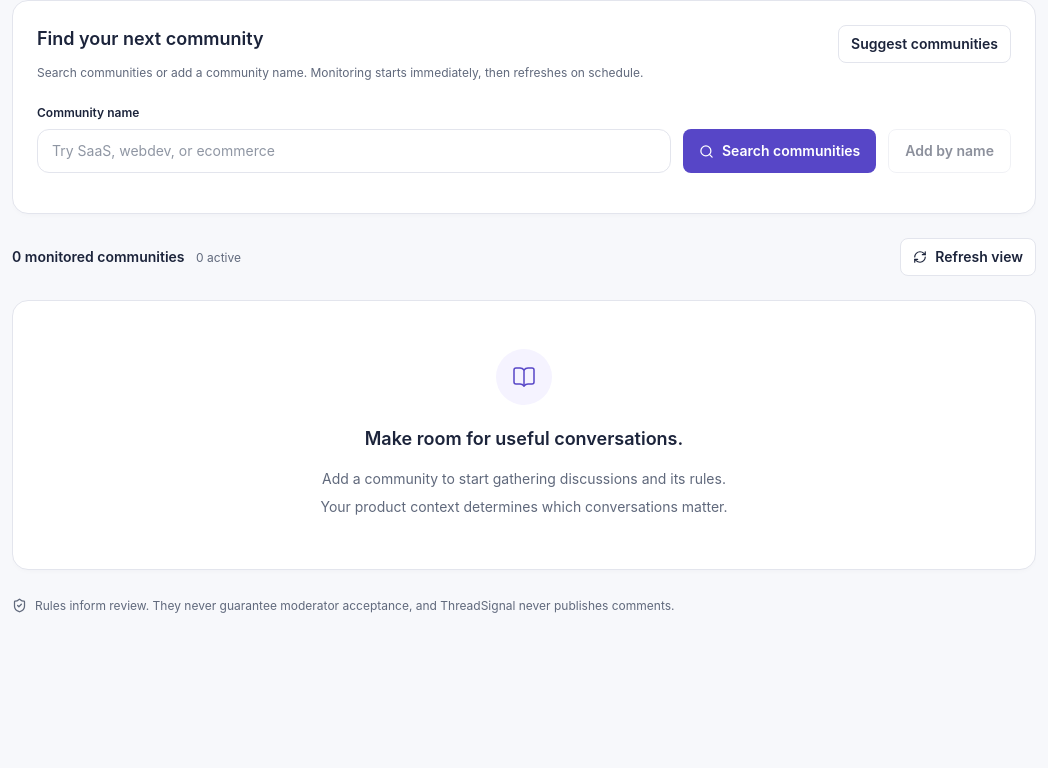
it: community and keyword workflows › preserves a typed community name when the plan refuses it
The width and height of the screenshot is (1048, 768).
In the field labelled "Community name": (354, 151) [37,129,671,173], type "SaaS"
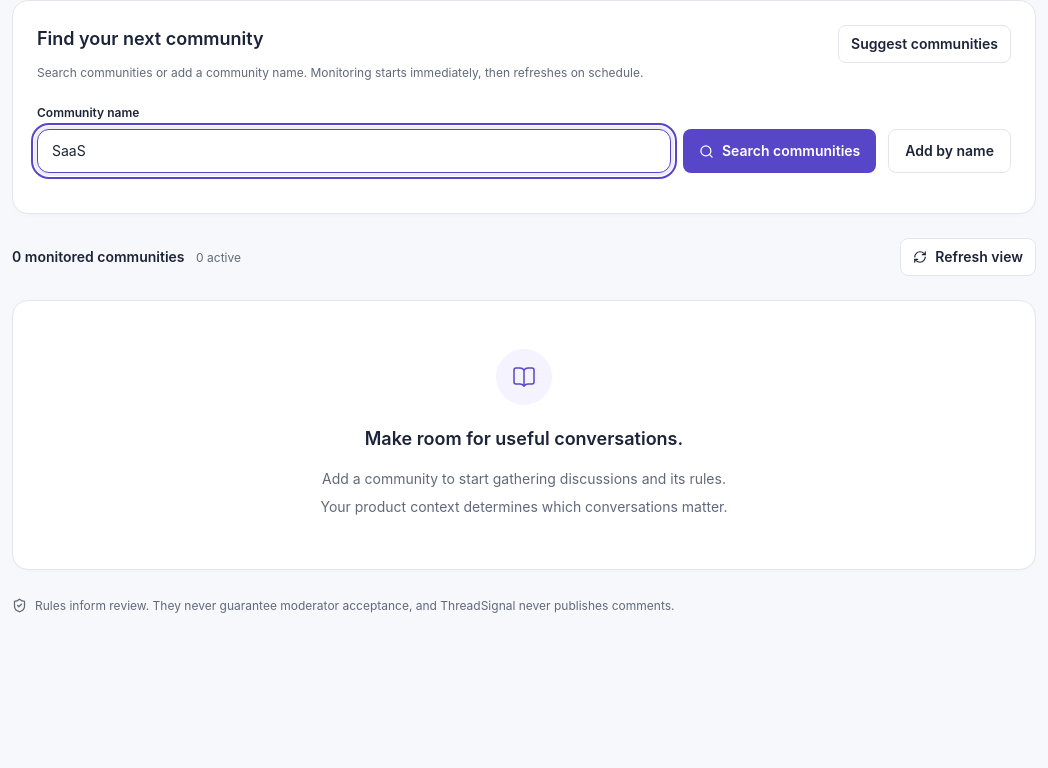
Click the button "Add by name": (950, 151) [888,129,1011,173]
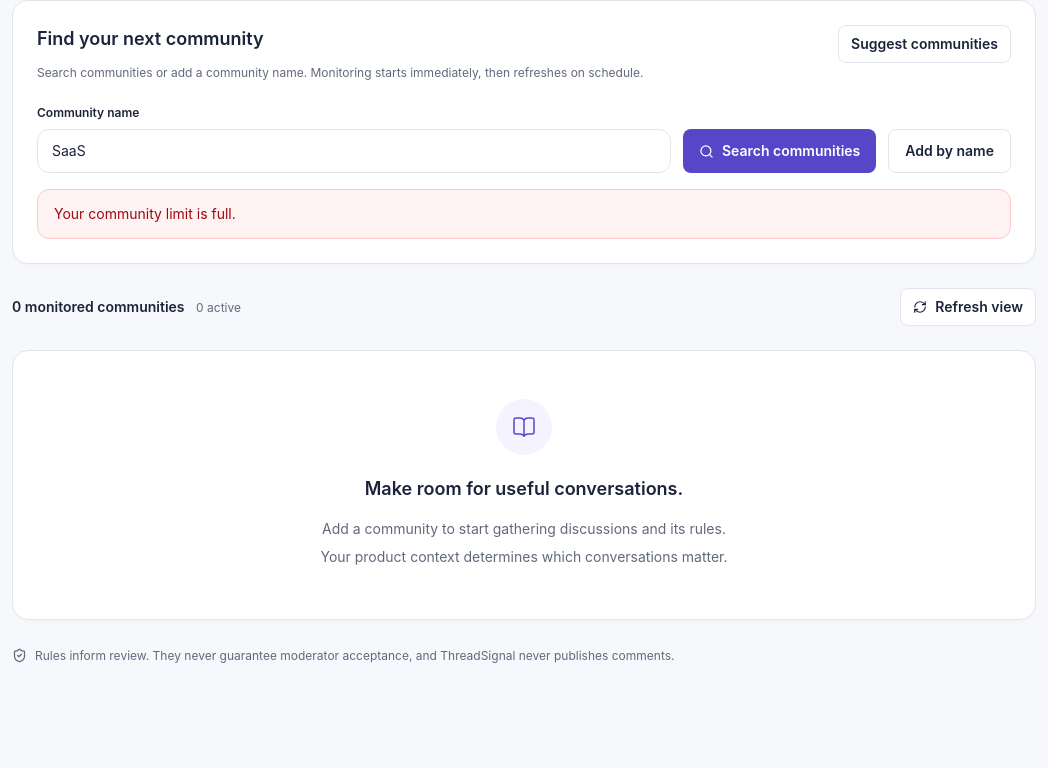
Now the message reads "Your community limit is full.", box [54,205,236,222]
